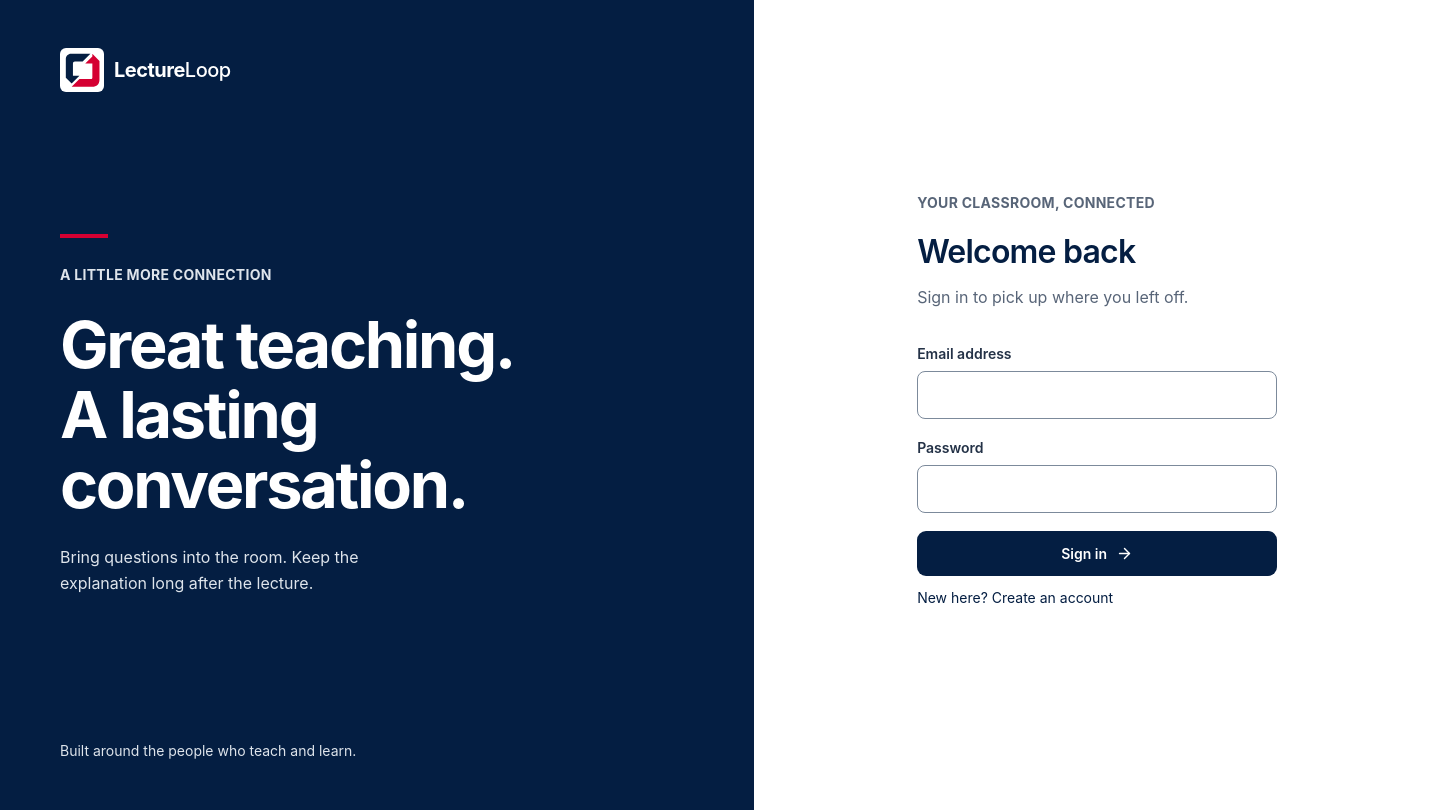
Test: signup exposes role and accessible account fields
The width and height of the screenshot is (1440, 810).
What coordinates should you click on to do the following:
click the button "New here? Create an account"
I would click on:
 (1015, 598)
Its box is [917, 576, 1113, 620].
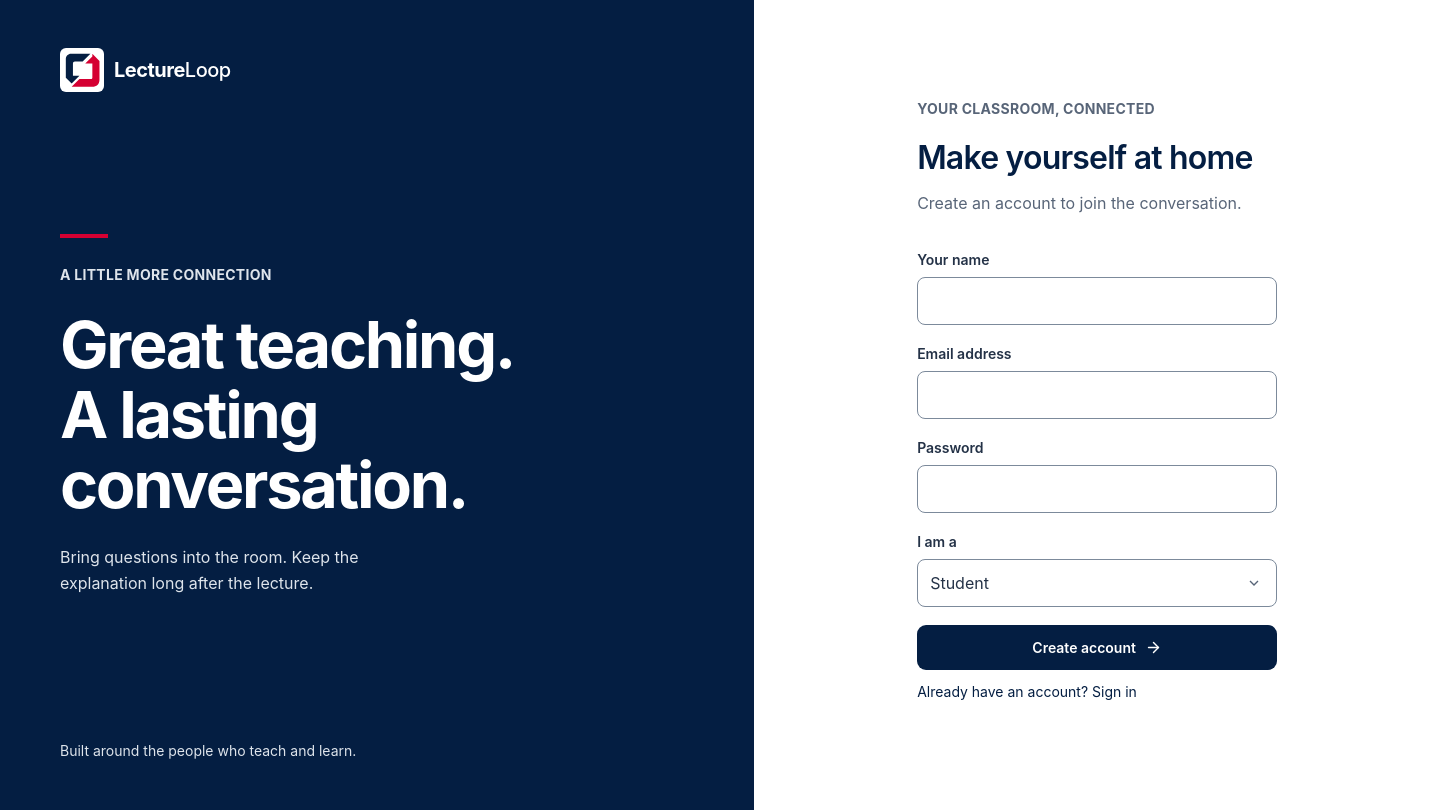
Expected: the dropdown labelled "I am a" shows "Student", [917, 559, 1277, 607]
